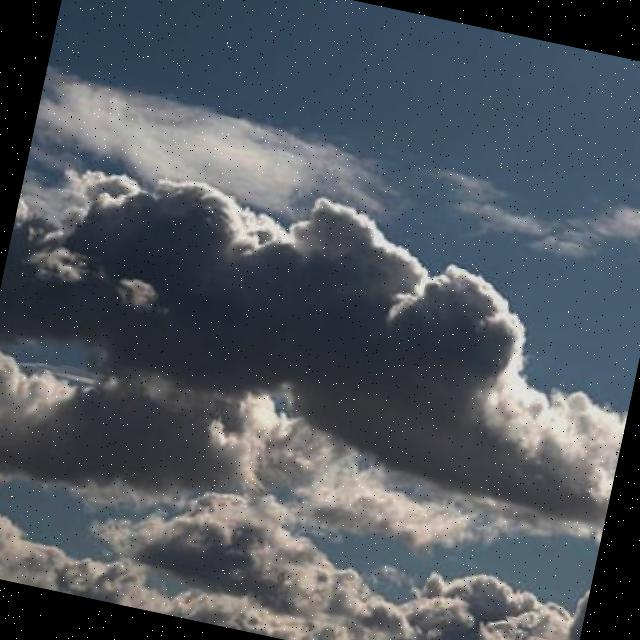As: (1, 120, 640, 555)
